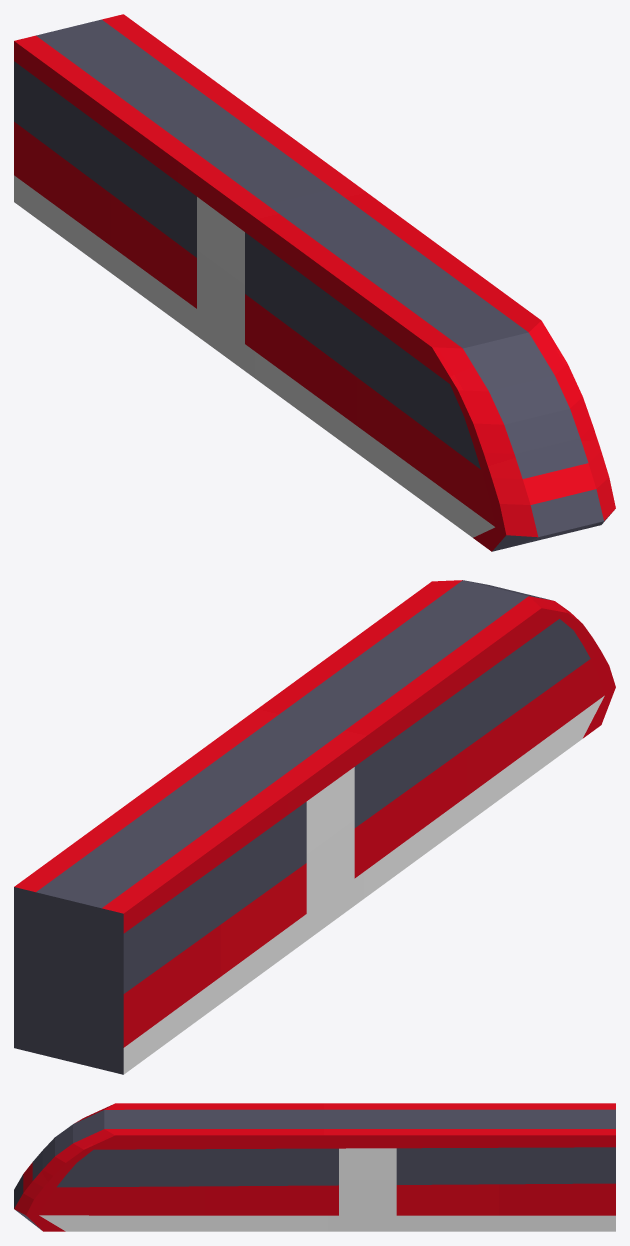
3 views of the same model, one above another, from view 1: azimuth 30°, elevation 25°; view 2: azimuth 150°, elevation 25°; view 3: azimuth 270°, elevation 25° (orthographic). The views are drawn at different scales.
Parts seen in each view (by area): view 1: Cube; view 2: Cube; view 3: Cube.
Part boxes in pixels (left/top/right/bottom): Cube: left=14, top=14, right=615, bottom=551; Cube: left=14, top=580, right=615, bottom=1074; Cube: left=14, top=1103, right=615, bottom=1231.
Bounding box in the file's own units: 2 × 2.81 × 15.87.
1 material, 1 textured.
